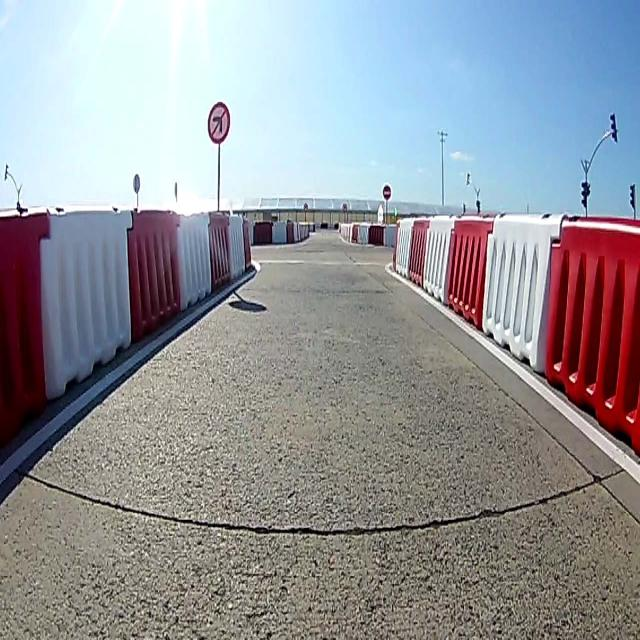girisyok: (382, 182, 392, 203)
soladonulmez: (207, 101, 229, 144)
